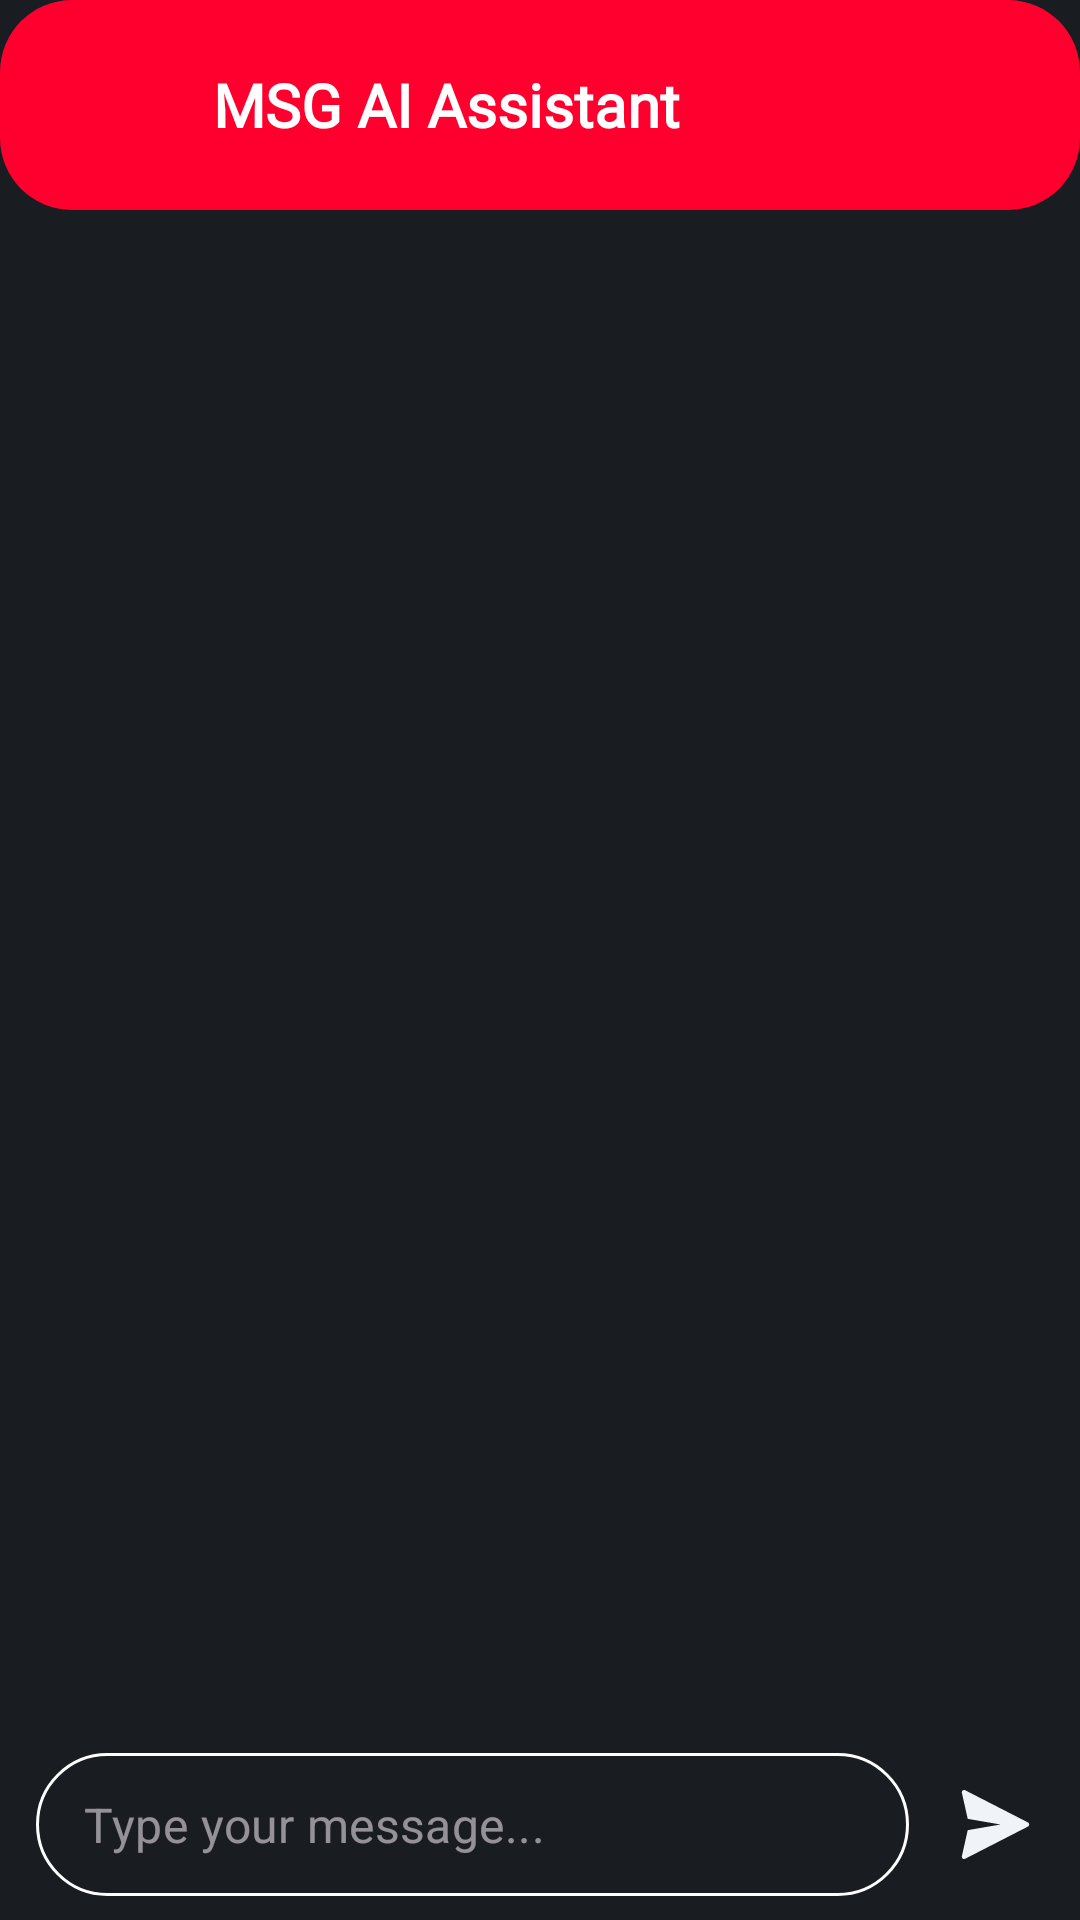

Screen size 1080×1920. Icon name, then its box in pixels as BBox(x1, y1, x2, y2):
send comment: BBox(961, 1790, 1030, 1859)
